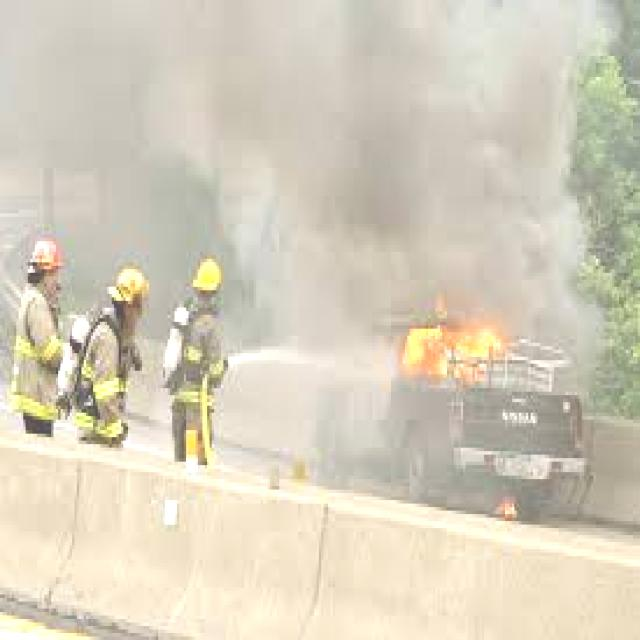fire: (384, 294, 510, 402)
